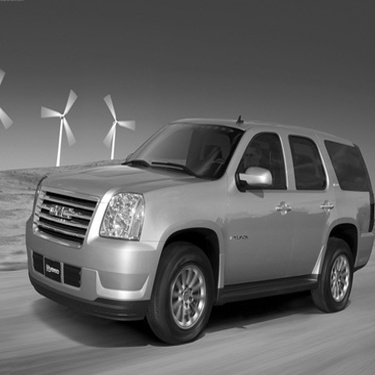car: (23, 110, 372, 349)
